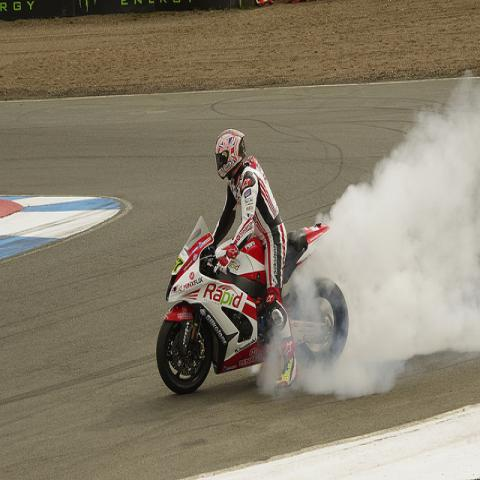motorcycle: (154, 217, 350, 395)
